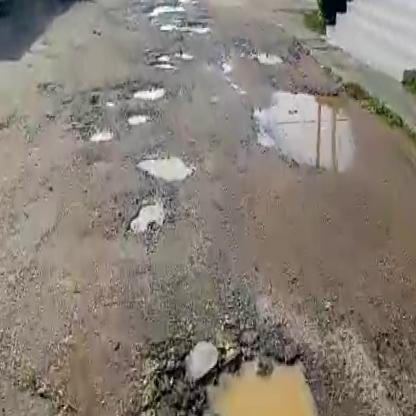pothole: (137, 334, 329, 416), (250, 92, 397, 174), (124, 189, 173, 238), (137, 148, 193, 185), (157, 16, 211, 36), (125, 80, 167, 101), (142, 0, 185, 18), (145, 53, 186, 71), (84, 123, 118, 143), (124, 111, 152, 128)
